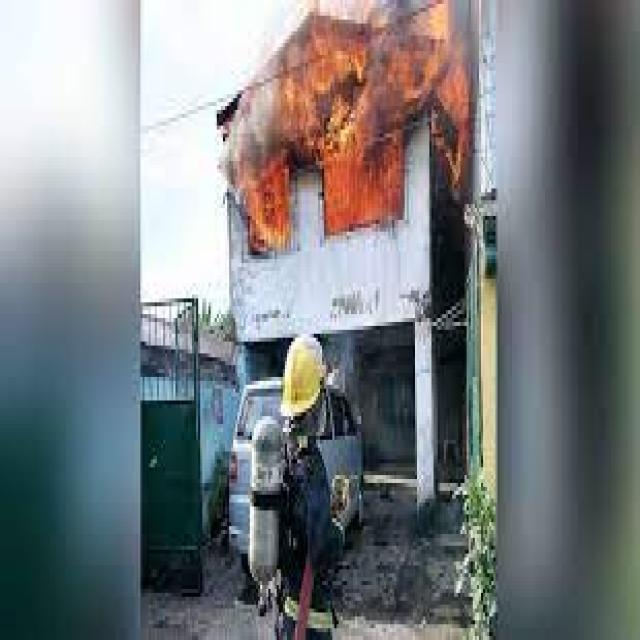Fire: (239, 28, 413, 235), (423, 7, 477, 194)
